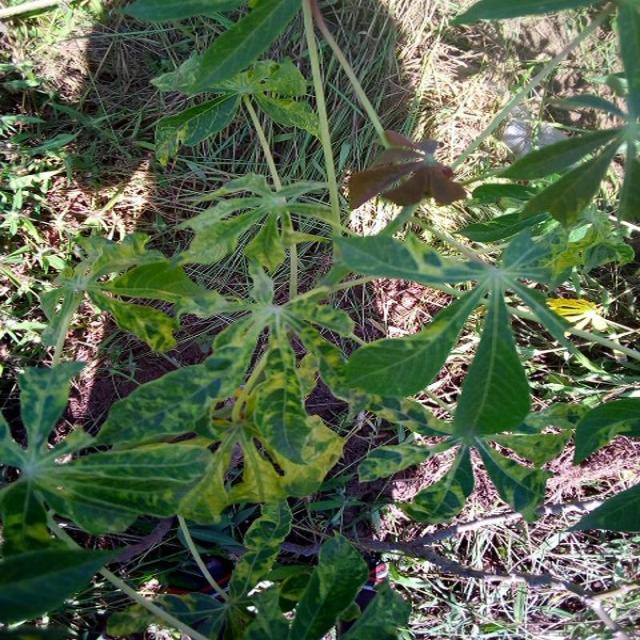cassava leaf: (452, 285, 530, 439)
